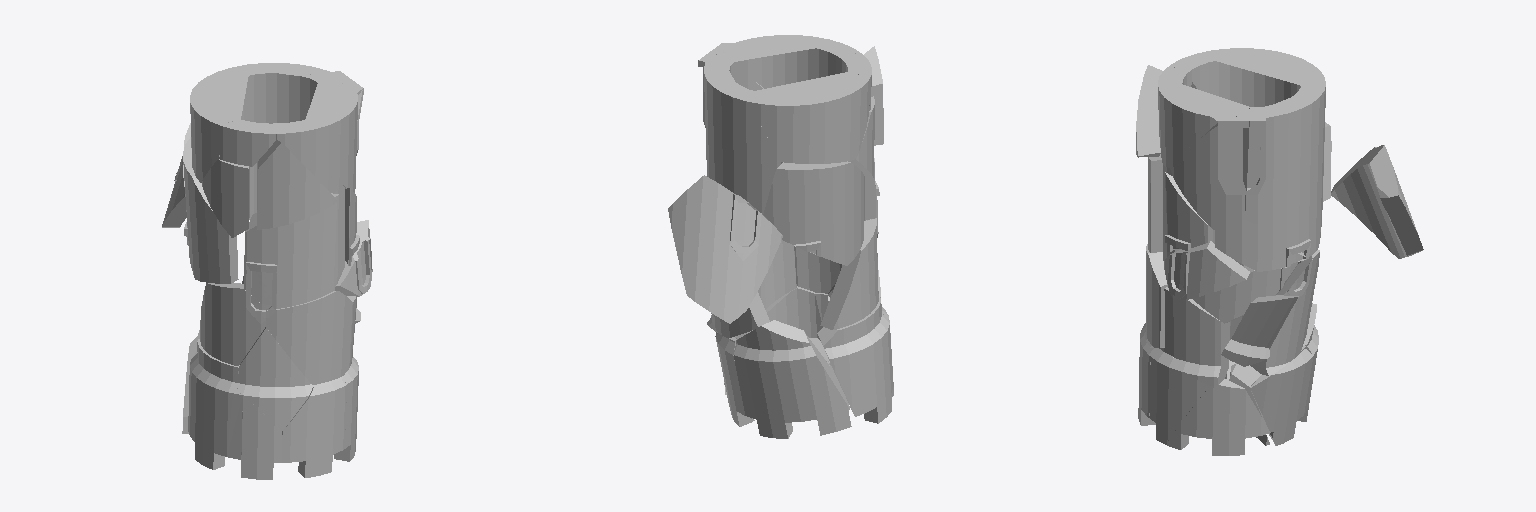
File: destruction_tower_000028.obj
The picture shows the model from 3 angles: view 1: azimuth 30°, elevation 25°; view 2: azimuth 150°, elevation 25°; view 3: azimuth 270°, elevation 25°; orthographic projection.
Visible parts, largest first — view 1: tower.001_cell.024_Mesh.024, tower.001_cell.021_Mesh.021, tower.001_cell.028_Mesh.028, tower.001_cell.006_Mesh.006, tower.001_cell.011_Mesh.011, tower.001_cell.002_Mesh.002, tower.001_cell.013_Mesh.013, tower.001_cell.009_Mesh.009, tower.001_cell.003_Mesh.003, tower.001_cell.017_Mesh.017, tower.001_cell.015_Mesh.015, tower.001_cell.005_Mesh.005 (+9 smaller); view 2: tower.001_cell.025_Mesh.025, tower.001_cell.007_Mesh.007, tower.001_cell.015_Mesh.015, tower.001_cell.003_Mesh.003, tower.001_cell.017_Mesh.017, tower.001_cell.028_Mesh.028, tower.001_cell.005_Mesh.005, tower.001_cell.009_Mesh.009, tower.001_cell.023_Mesh.023, tower.001_cell_Mesh, tower.001_cell.021_Mesh.021, tower.001_cell.029_Mesh.029 (+7 smaller); view 3: tower.001_cell.017_Mesh.017, tower.001_cell.020_Mesh.020, tower.001_cell.025_Mesh.025, tower.001_cell.015_Mesh.015, tower.001_cell.028_Mesh.028, tower.001_cell.030_Mesh.030, tower.001_cell_Mesh, tower.001_cell.029_Mesh.029, tower.001_cell.010_Mesh.010, tower.001_cell.023_Mesh.023, tower.001_cell.012_Mesh.012, tower.001_cell.016_Mesh.016 (+12 smaller).
Part boxes in pixels (bbox=[...]): tower.001_cell.024_Mesh.024: bbox=[244, 193, 338, 309]; tower.001_cell.021_Mesh.021: bbox=[266, 291, 353, 386]; tower.001_cell.028_Mesh.028: bbox=[270, 83, 363, 193]; tower.001_cell.006_Mesh.006: bbox=[194, 391, 281, 479]; tower.001_cell.011_Mesh.011: bbox=[282, 379, 346, 477]; tower.001_cell.002_Mesh.002: bbox=[257, 140, 336, 229]; tower.001_cell.013_Mesh.013: bbox=[237, 327, 312, 430]; tower.001_cell.009_Mesh.009: bbox=[200, 283, 266, 365]; tower.001_cell.003_Mesh.003: bbox=[183, 137, 238, 283]; tower.001_cell.017_Mesh.017: bbox=[230, 63, 326, 219]; tower.001_cell.015_Mesh.015: bbox=[190, 68, 248, 182]; tower.001_cell.005_Mesh.005: bbox=[188, 339, 239, 440]; tower.001_cell.025_Mesh.025: bbox=[668, 175, 782, 323]; tower.001_cell.007_Mesh.007: bbox=[734, 320, 851, 438]; tower.001_cell.015_Mesh.015: bbox=[749, 72, 869, 163]; tower.001_cell.003_Mesh.003: bbox=[763, 161, 864, 265]; tower.001_cell.017_Mesh.017: bbox=[704, 65, 782, 213]; tower.001_cell.028_Mesh.028: bbox=[722, 35, 858, 88]; tower.001_cell.005_Mesh.005: bbox=[817, 298, 889, 416]; tower.001_cell.009_Mesh.009: bbox=[820, 218, 878, 329]; tower.001_cell.023_Mesh.023: bbox=[767, 286, 828, 360]; tower.001_cell_Mesh: bbox=[758, 240, 796, 311]; tower.001_cell.021_Mesh.021: bbox=[794, 246, 841, 293]; tower.001_cell.029_Mesh.029: bbox=[715, 332, 751, 426]; tower.001_cell.017_Mesh.017: bbox=[1272, 82, 1325, 258]; tower.001_cell.020_Mesh.020: bbox=[1170, 115, 1248, 230]; tower.001_cell.025_Mesh.025: bbox=[1331, 145, 1423, 258]; tower.001_cell.015_Mesh.015: bbox=[1215, 48, 1325, 106]; tower.001_cell.028_Mesh.028: bbox=[1158, 67, 1250, 167]; tower.001_cell.030_Mesh.030: bbox=[1166, 379, 1270, 455]; tower.001_cell_Mesh: bbox=[1164, 287, 1229, 385]; tower.001_cell.029_Mesh.029: bbox=[1250, 346, 1312, 445]; tower.001_cell.010_Mesh.010: bbox=[1164, 240, 1249, 299]; tower.001_cell.023_Mesh.023: bbox=[1149, 347, 1209, 444]; tower.001_cell.012_Mesh.012: bbox=[1250, 250, 1319, 375]; tower.001_cell.016_Mesh.016: bbox=[1221, 295, 1298, 366].
Size of the model in its own units: 50.5 by 96.37 by 73.07.